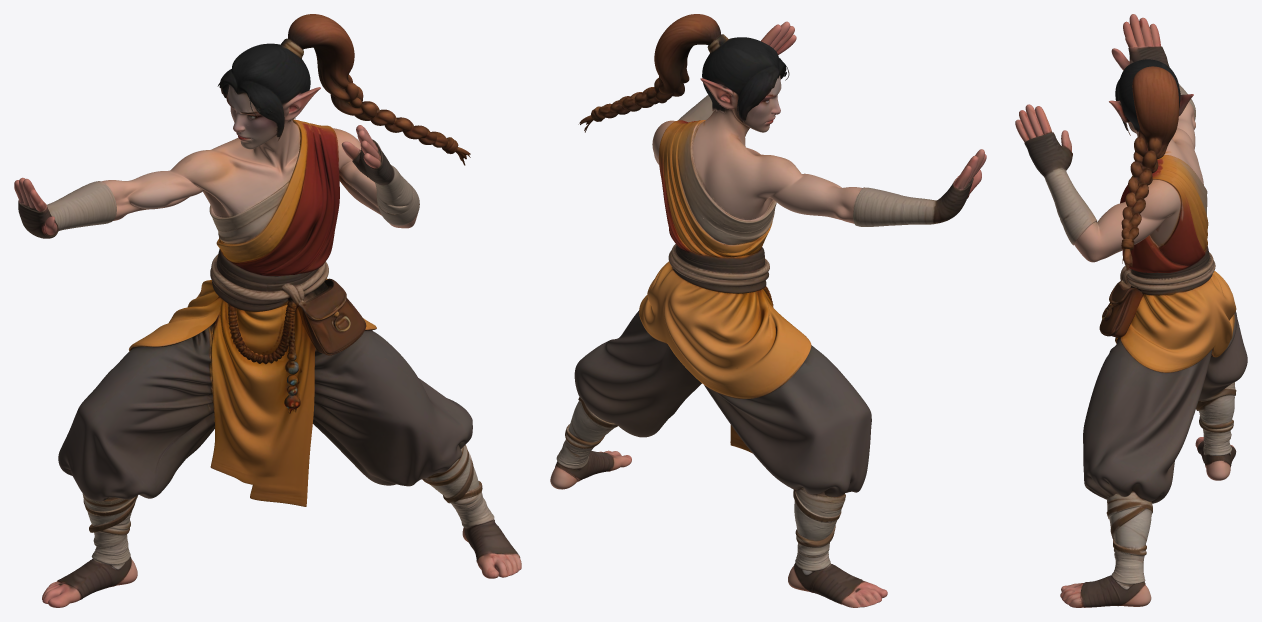
File: half_elf_monk_full_female_01.glb
3 views of the same model, side by side, from view 1: azimuth 30°, elevation 25°; view 2: azimuth 150°, elevation 25°; view 3: azimuth 270°, elevation 25° (orthographic). The views are drawn at different scales.
Parts seen in each view (by area): view 1: material; view 2: material; view 3: material.
Part boxes in pixels (box(x1,y1,x2,y2)): material: box(14, 14, 521, 607); material: box(550, 14, 986, 607); material: box(1015, 14, 1247, 607).
Size of the model in its own units: 0.7923 by 0.897 by 0.4017.
1 material, 1 textured.
